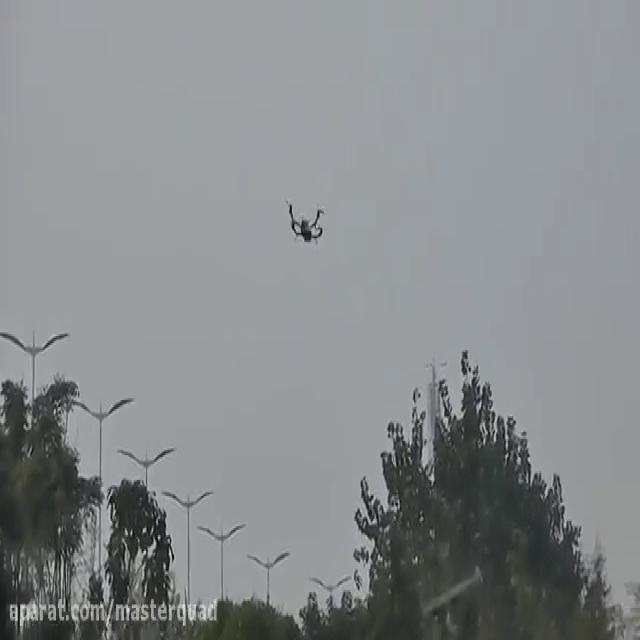drone: (281, 197, 327, 242)
